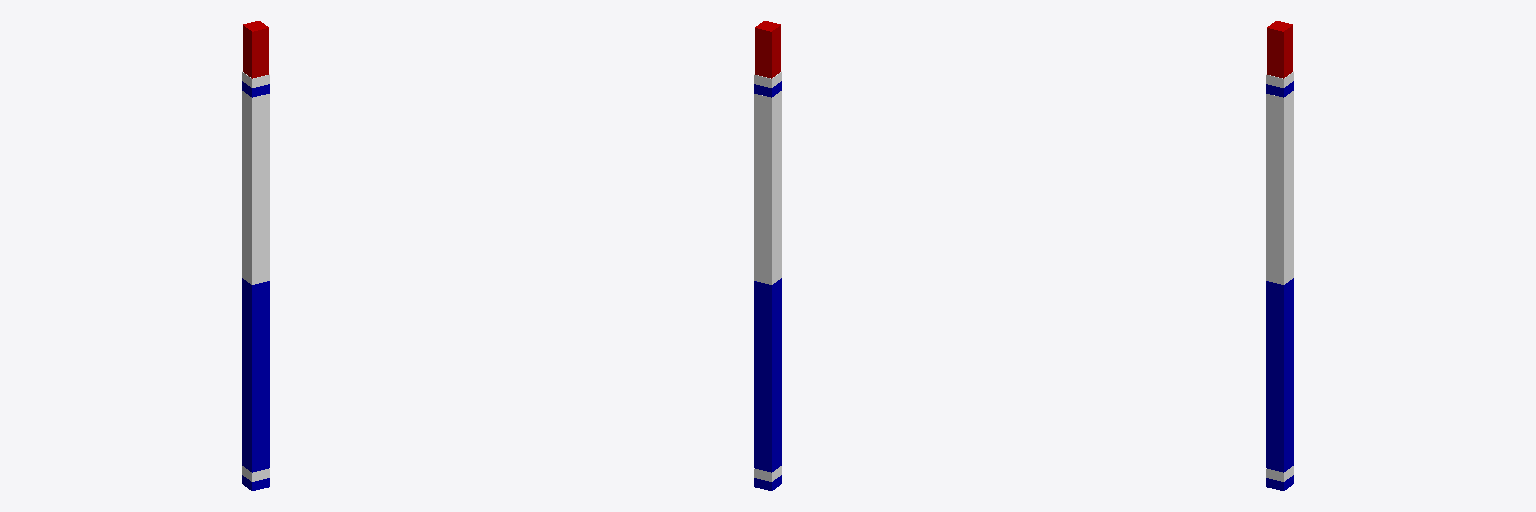
URDF robot description (multiple):
<?xml version="1.0" encoding="utf-8"?>
<!-- =================================================================================== -->
<!-- |    This document was autogenerated by xacro from 6dof_macro.urdf.xacro          | -->
<!-- |    EDITING THIS FILE BY HAND IS NOT RECOMMENDED                                 | -->
<!-- =================================================================================== -->
<robot name="multiple">
  <material name="blue">
    <color rgba="0 0 0.8 1"/>
  </material>
  <material name="white">
    <color rgba="1 1 1 1"/>
  </material>
  <material name="red">
    <color rgba="0.8 0 0 1"/>
  </material>
  <link name="world"/>
  <joint name="fixed" type="fixed">
    <parent link="world"/>
    <child link="base"/>
    <origin xyz="0 0 2"/>
  </joint>
  <link name="ee">
    <visual>
      <geometry>
        <box size="0.19 0.19 0.5"/>
      </geometry>
      <origin rpy="0 0 0" xyz="0 0 0.25"/>
      <material name="red"/>
    </visual>
  </link>
  <link name="base">
    <visual>
      <geometry>
        <box size="0.205 0.205 0.1"/>
      </geometry>
      <origin rpy="0 0 0" xyz="0 0 0.05"/>
      <material name="blue"/>
    </visual>
  </link>
  <joint name="baseu1" type="revolute">
    <parent link="base"/>
    <child link="u1"/>
    <axis xyz="0 1 0"/>
    <origin xyz="0 0 0.1"/>
    <limit effort="1" lower="-3.14" upper="3.14" velocity="1"/>
  </joint>
  <link name="u1">
    <visual>
      <geometry>
        <box size="0.204 0.204 0.1"/>
      </geometry>
      <origin rpy="0 0 0" xyz="0 0 0.05"/>
      <material name="white"/>
    </visual>
  </link>
  <joint name="u1u2" type="revolute">
    <parent link="u1"/>
    <child link="u2"/>
    <axis xyz="1 0 0"/>
    <origin xyz="0 0 0.1"/>
    <limit effort="1" lower="-3.14" upper="3.14" velocity="1"/>
  </joint>
  <link name="u2">
    <visual>
      <geometry>
        <box size="0.203 0.203 2"/>
      </geometry>
      <origin rpy="0 0 0" xyz="0 0 1.0"/>
      <material name="blue"/>
    </visual>
  </link>
  <joint name="u2u3" type="revolute">
    <parent link="u2"/>
    <child link="u3"/>
    <axis xyz="-1 0 0"/>
    <origin xyz="0 0 2"/>
    <limit effort="1" lower="-3.14" upper="3.14" velocity="1"/>
  </joint>
  <link name="u3">
    <visual>
      <geometry>
        <box size="0.202 0.202 2"/>
      </geometry>
      <origin rpy="0 0 0" xyz="0 0 1.0"/>
      <material name="white"/>
    </visual>
  </link>
  <joint name="u3u4" type="revolute">
    <parent link="u3"/>
    <child link="u4"/>
    <axis xyz="0 0 1"/>
    <origin xyz="0 0 2"/>
    <limit effort="1" lower="-3.14" upper="3.14" velocity="1"/>
  </joint>
  <link name="u4">
    <visual>
      <geometry>
        <box size="0.201 0.201 0.1"/>
      </geometry>
      <origin rpy="0 0 0" xyz="0 0 0.05"/>
      <material name="blue"/>
    </visual>
  </link>
  <joint name="u4u5" type="revolute">
    <parent link="u4"/>
    <child link="u5"/>
    <axis xyz="1 0 0"/>
    <origin xyz="0 0 0.1"/>
    <limit effort="1" lower="-3.14" upper="3.14" velocity="1"/>
  </joint>
  <link name="u5">
    <visual>
      <geometry>
        <box size="0.2 0.2 0.1"/>
      </geometry>
      <origin rpy="0 0 0" xyz="0 0 0.05"/>
      <material name="white"/>
    </visual>
  </link>
  <joint name="u5ee" type="revolute">
    <parent link="u5"/>
    <child link="ee"/>
    <axis xyz="0 1 0"/>
    <origin xyz="0 0 0.1"/>
    <limit effort="1" lower="-3.14" upper="3.14" velocity="1"/>
  </joint>
</robot>

--- Facts derived from the render (not from the file) ---
The picture shows the robot from 3 angles, left to right: view 1: azimuth 30°, elevation 25°; view 2: azimuth 150°, elevation 25°; view 3: azimuth 330°, elevation 25°; orthographic projection.
Model multiple with 8 links and 7 joints (6 revolute, 1 fixed), rooted at world, posed all joints at 0.
Visible links, largest first — view 1: u2, u3, ee; view 2: u2, u3, ee; view 3: u2, u3, ee.
Boxes of the visible links, x1,y1,x2,y2 form: u2: [242, 278, 269, 472]; u3: [242, 91, 269, 284]; ee: [243, 21, 268, 78]; u2: [754, 278, 781, 472]; u3: [754, 91, 781, 284]; ee: [755, 21, 780, 78]; u2: [1266, 278, 1293, 472]; u3: [1266, 91, 1293, 284]; ee: [1267, 21, 1292, 78].
Size in the robot's own frame: 0.205 by 0.205 by 4.9 metres.
Geometry: primitives only (box / cylinder / sphere), no mesh files.
